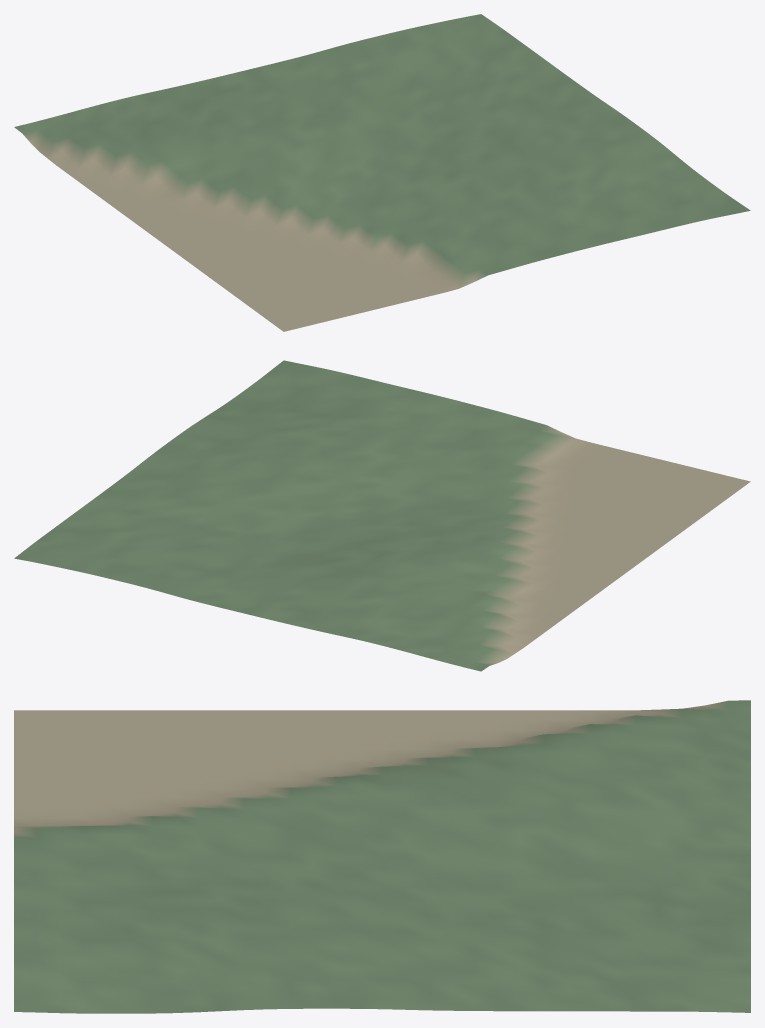
The picture shows the model from 3 angles, top to bottom: view 1: azimuth 30°, elevation 25°; view 2: azimuth 150°, elevation 25°; view 3: azimuth 270°, elevation 25°; orthographic projection. The views are drawn at different scales.
Visible parts, largest first — view 1: Terrain-col; view 2: Terrain-col; view 3: Terrain-col.
Boxes of the visible parts, bbox=[...] form: Terrain-col: bbox=[14, 14, 750, 331]; Terrain-col: bbox=[14, 360, 750, 671]; Terrain-col: bbox=[14, 700, 750, 1013].
Bounding box in the file's own units: 256 × 6.9 × 256.
